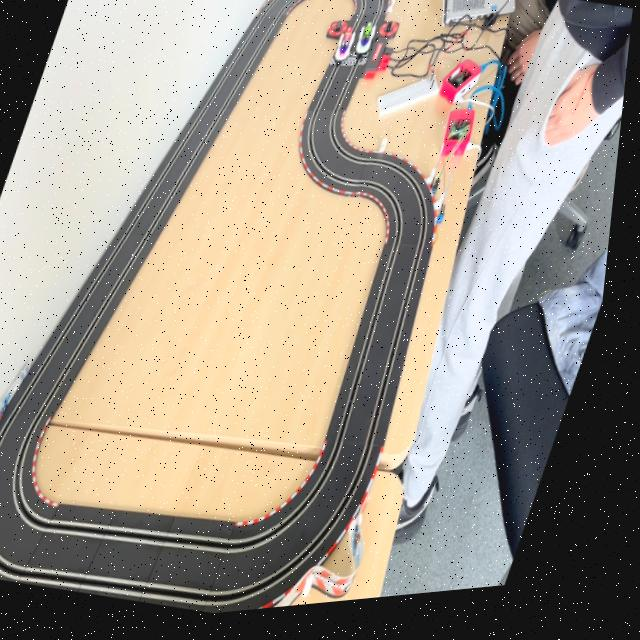mario: (333, 28, 360, 72)
yoshi: (354, 28, 380, 66)
